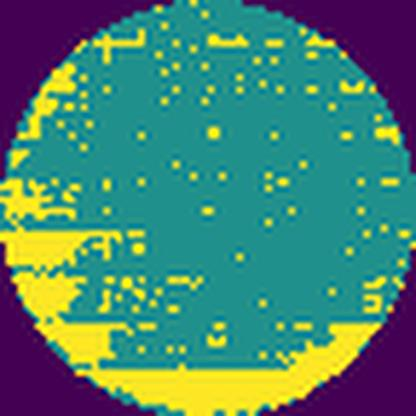Edge-Loc: (0, 314, 391, 416), (0, 228, 143, 312), (9, 53, 85, 146)
